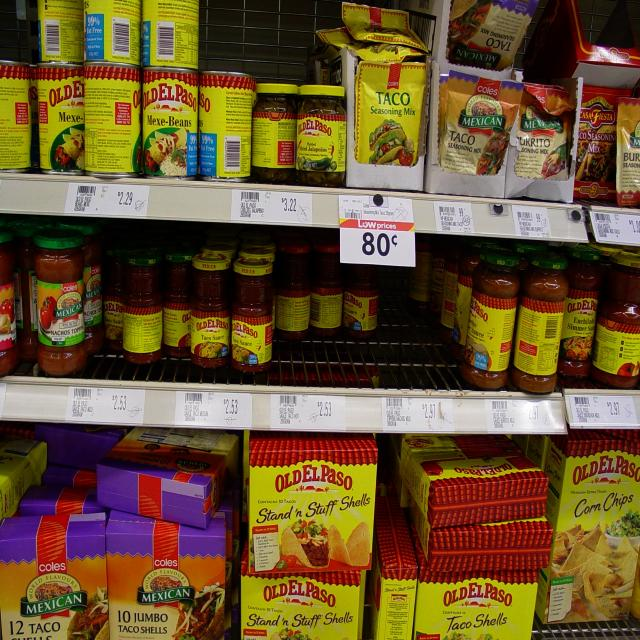empty_space: (289, 343, 447, 397), (215, 3, 307, 65)
